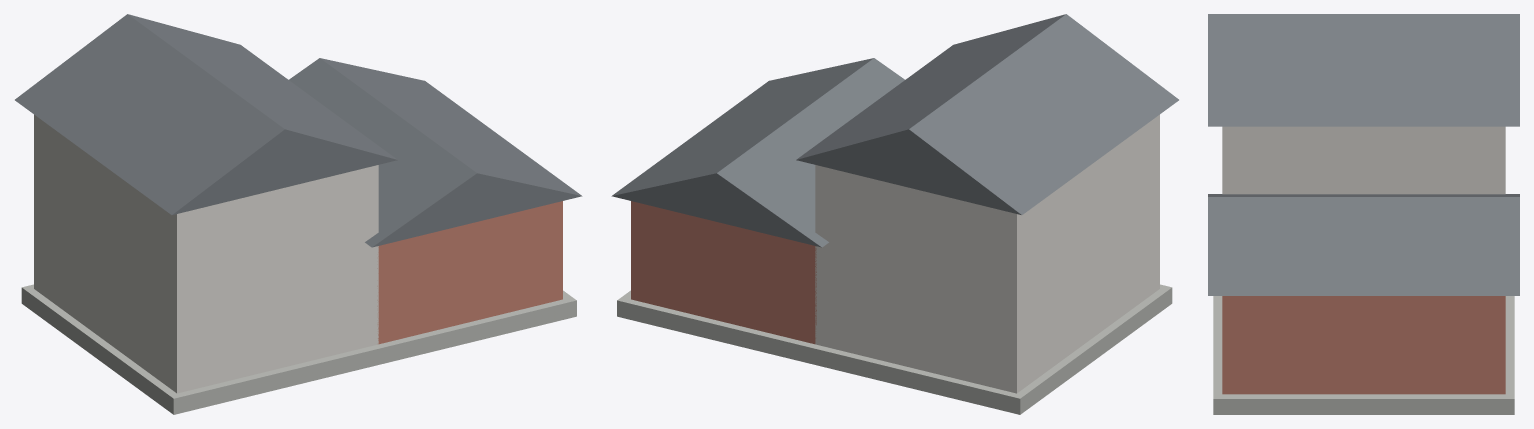
Rendered from house_split_level.glb.
3 views of the same model, side by side, from view 1: azimuth 30°, elevation 25°; view 2: azimuth 150°, elevation 25°; view 3: azimuth 270°, elevation 25° (orthographic).
Parts seen in each view (by area): view 1: house_split_level; view 2: house_split_level; view 3: house_split_level.
Part boxes in pixels (left/top/right/bottom): house_split_level: left=15, top=14, right=582, bottom=414; house_split_level: left=611, top=14, right=1178, bottom=414; house_split_level: left=1208, top=14, right=1519, bottom=414.
Size of the model in its own units: 13.25 by 8.05 by 8.8.
